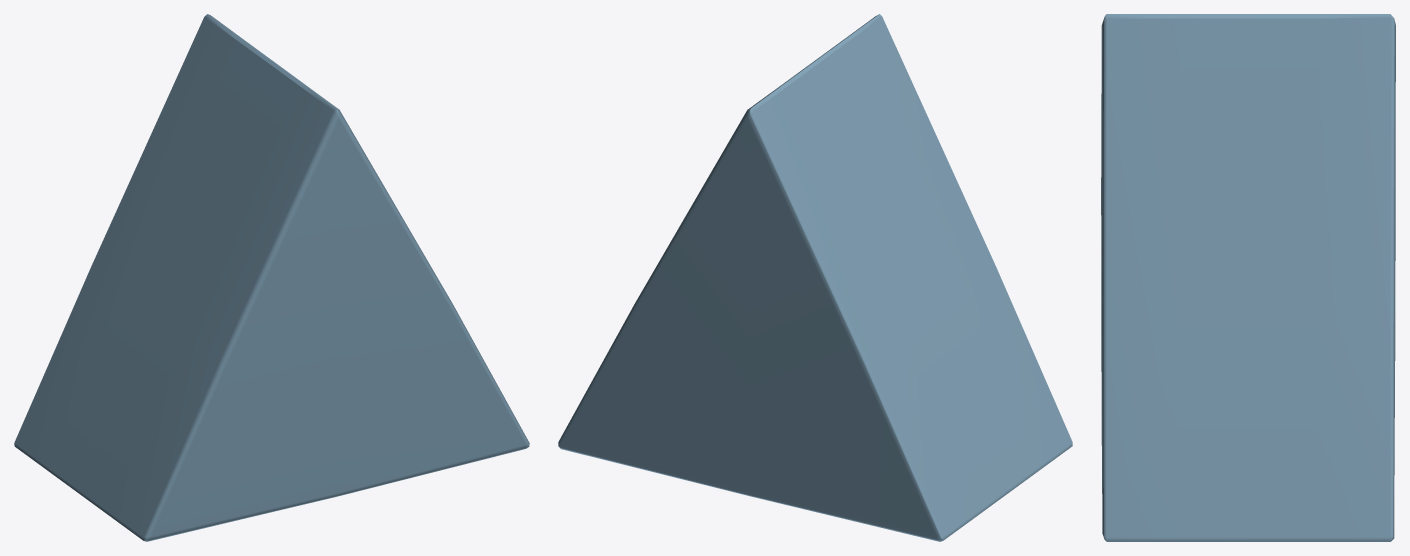
The model's file is 6_1_L2_prism_tex.fbx.
3 renders of one model, left to right at view 1: azimuth 30°, elevation 25°; view 2: azimuth 150°, elevation 25°; view 3: azimuth 270°, elevation 25°, orthographic. The views are drawn at different scales.
Visible parts, largest first — view 1: prism_geo; view 2: prism_geo; view 3: prism_geo.
Part boxes in pixels (bbox=[...]): prism_geo: bbox=[14, 14, 529, 541]; prism_geo: bbox=[558, 14, 1072, 541]; prism_geo: bbox=[1101, 14, 1395, 541].
Size of the model in its own units: 8.33 by 8.01 by 5.01.
1 material, 1 textured.
